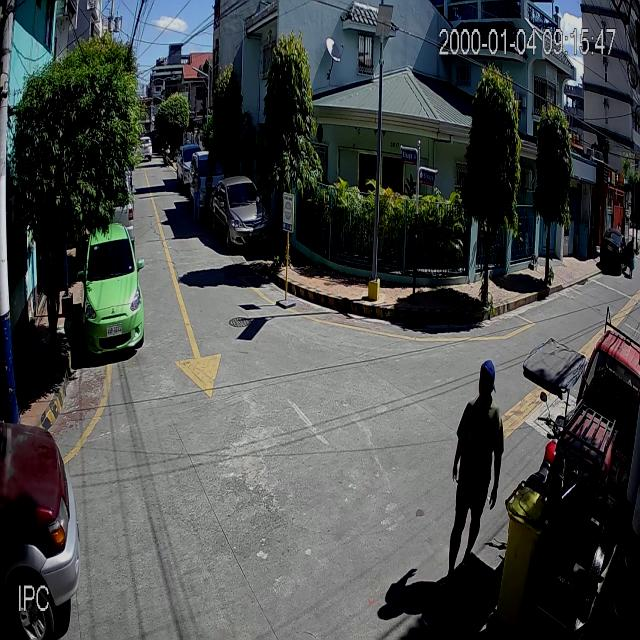walking: (441, 356, 506, 574)
